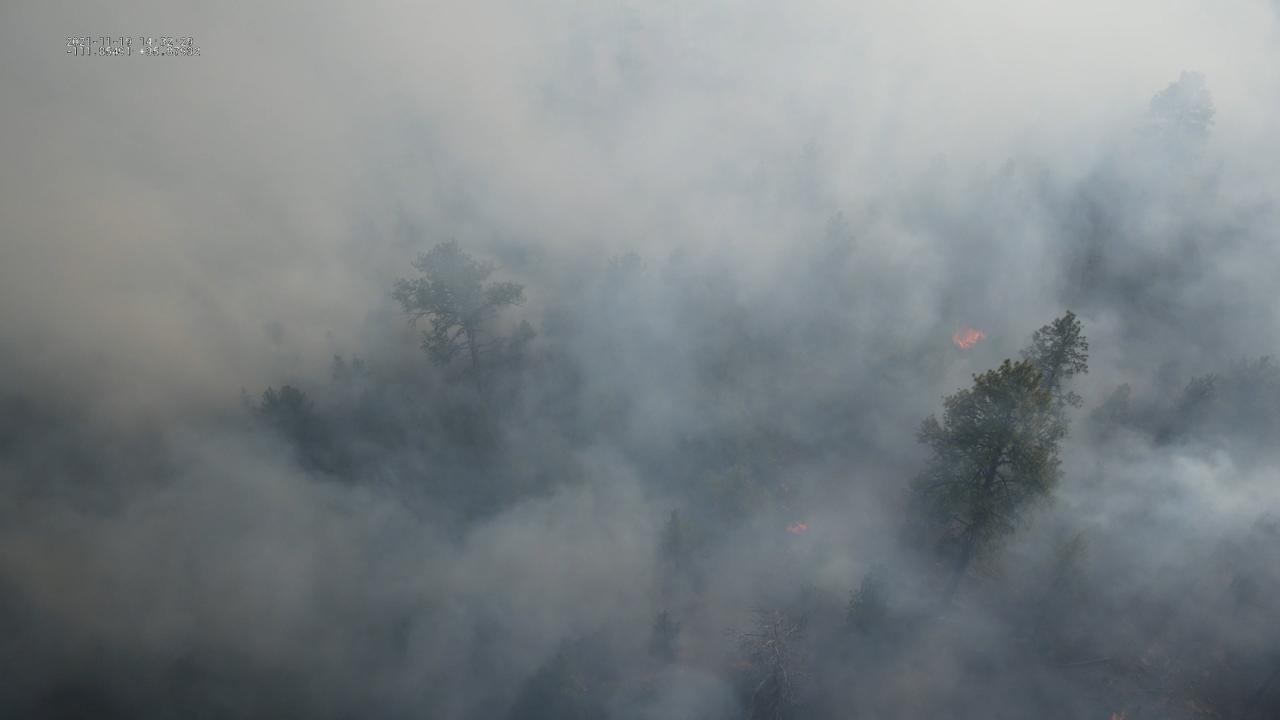fire: (949, 325, 987, 355), (783, 522, 809, 538), (1106, 707, 1129, 720)
smoke: (0, 0, 1280, 720)
